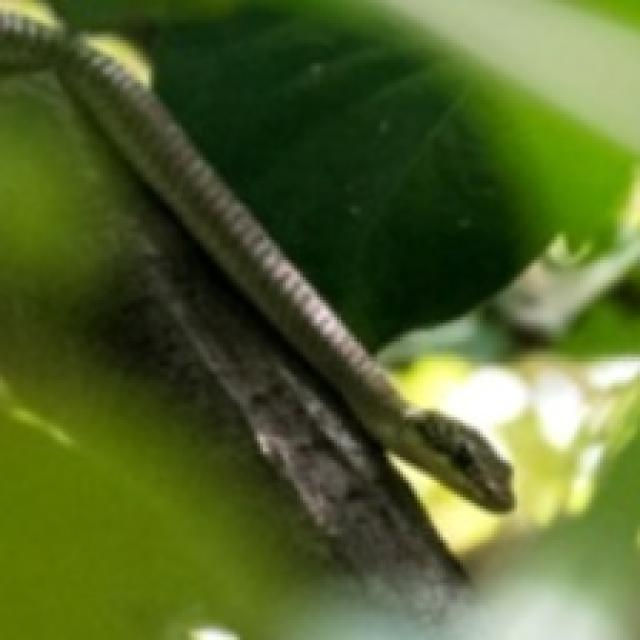paradise tree snake: (0, 0, 511, 509)
